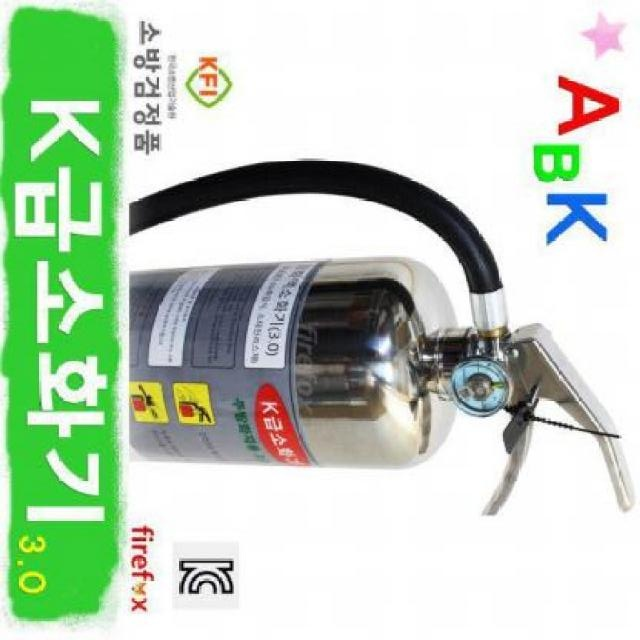fire extinguisher: (128, 159, 635, 518)
